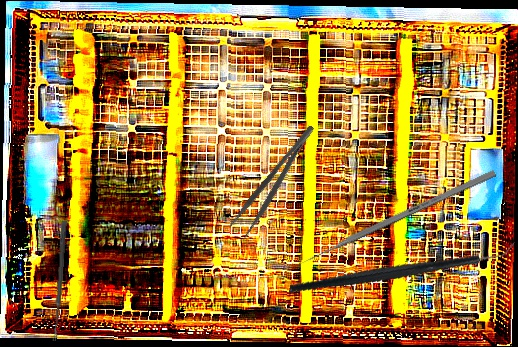Chopper: (288, 198, 516, 335)
Dressing Forceps: (227, 122, 326, 240)
Pusher: (293, 168, 497, 270)
Surgical Spoon: (52, 220, 67, 342)
